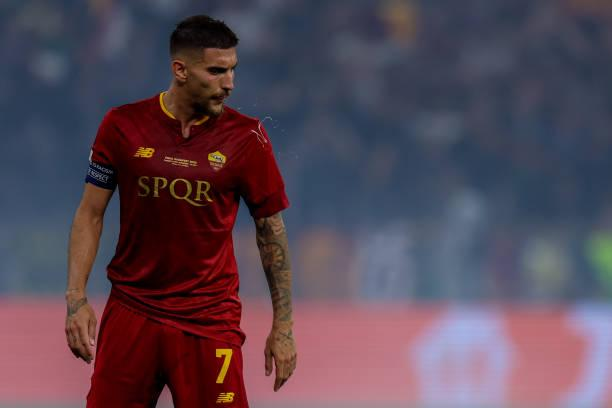Spitting: (152, 0, 302, 137)
